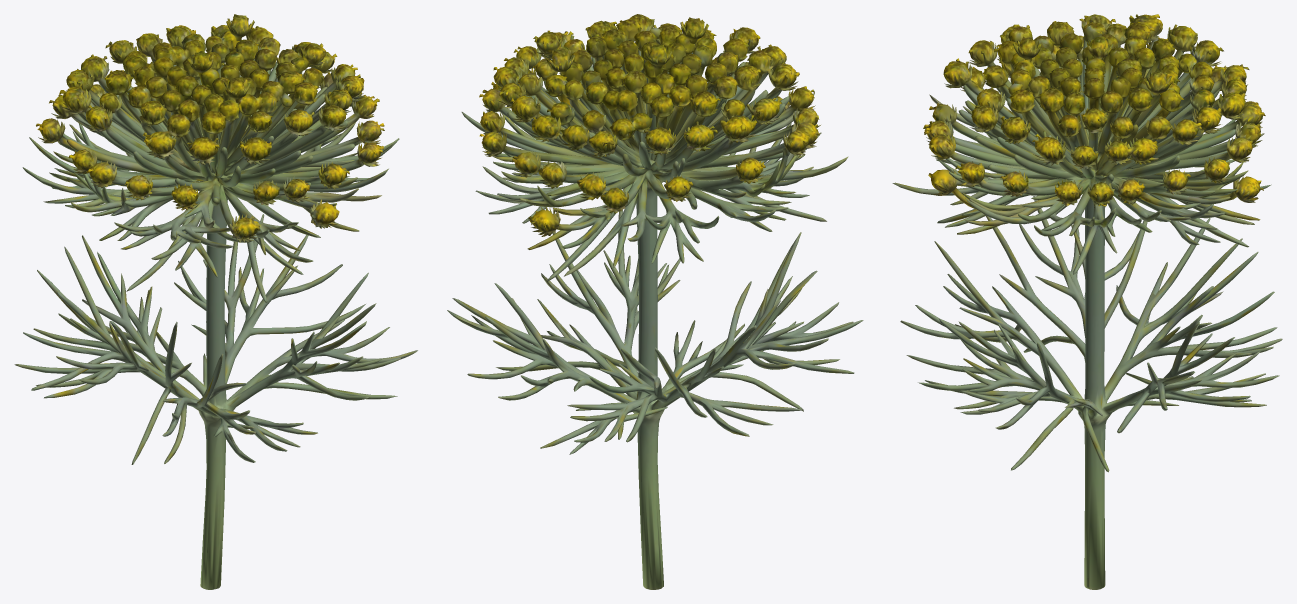
Rendered from shiluo.glb.
3 views of the same model, side by side, from view 1: azimuth 30°, elevation 25°; view 2: azimuth 150°, elevation 25°; view 3: azimuth 270°, elevation 25° (orthographic). The views are drawn at different scales.
Parts seen in each view (by area): view 1: node_0; view 2: node_0; view 3: node_0.
Part boxes in pixels (box(x1,y1,x2,y2)): node_0: box(14, 14, 417, 589); node_0: box(447, 14, 863, 589); node_0: box(892, 14, 1282, 589).
Bounding box in the file's own units: 0.7843 × 1.12 × 0.7309.
Materials: 1 (1 with a texture image).
